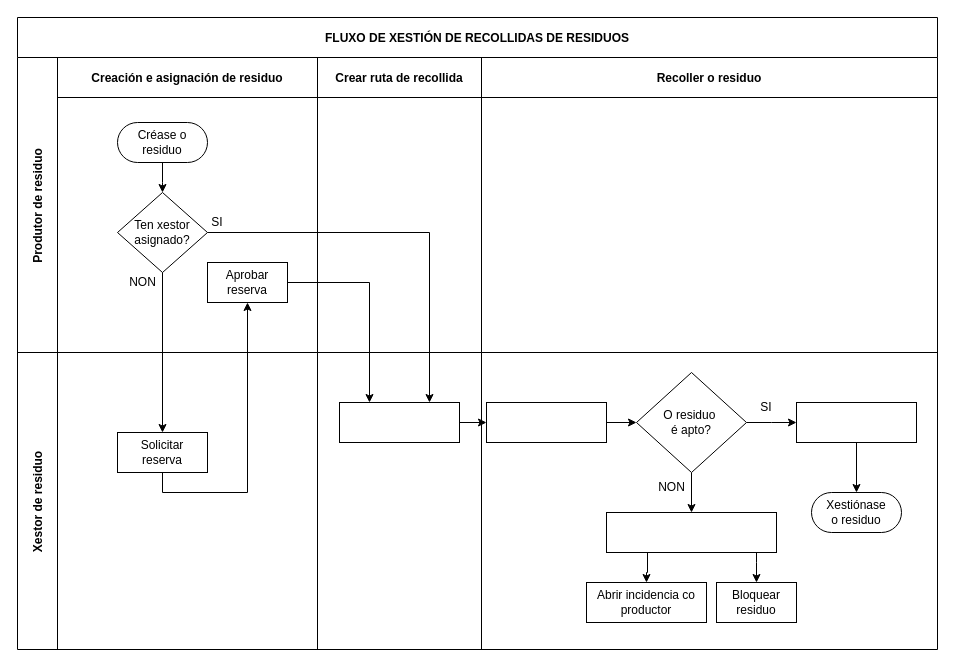
Image size: 955x667. Some labels were removed from this diagram. Here are the shapes that lost their labels. From the top down, the centre of each, then its label:
At point (399, 422): "Engadir residuo a ruta".
At point (546, 422): "Iniciar unha ruta de recollida".
At point (856, 422): "Confirmar a recollida do residuo".
At point (691, 532): "Rexeitar a recollida do residuo".
